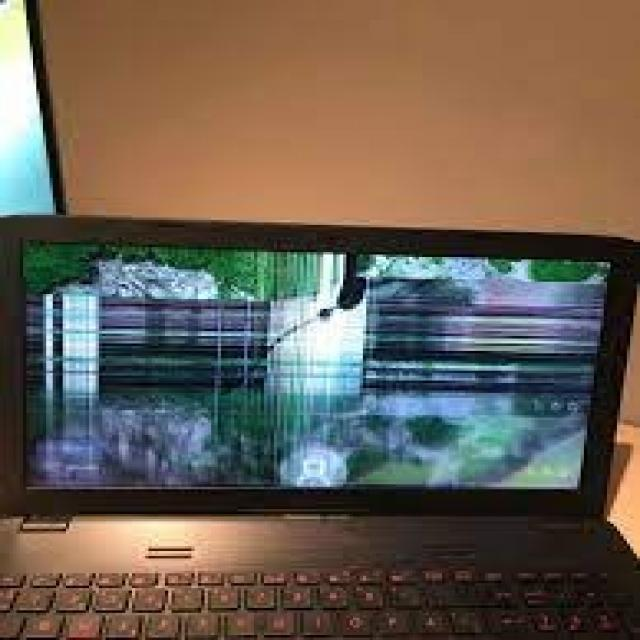Screen cracks: (234, 252, 383, 376)
